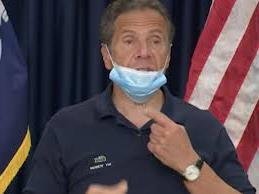mask_weared_incorrect: (110, 27, 166, 90)
